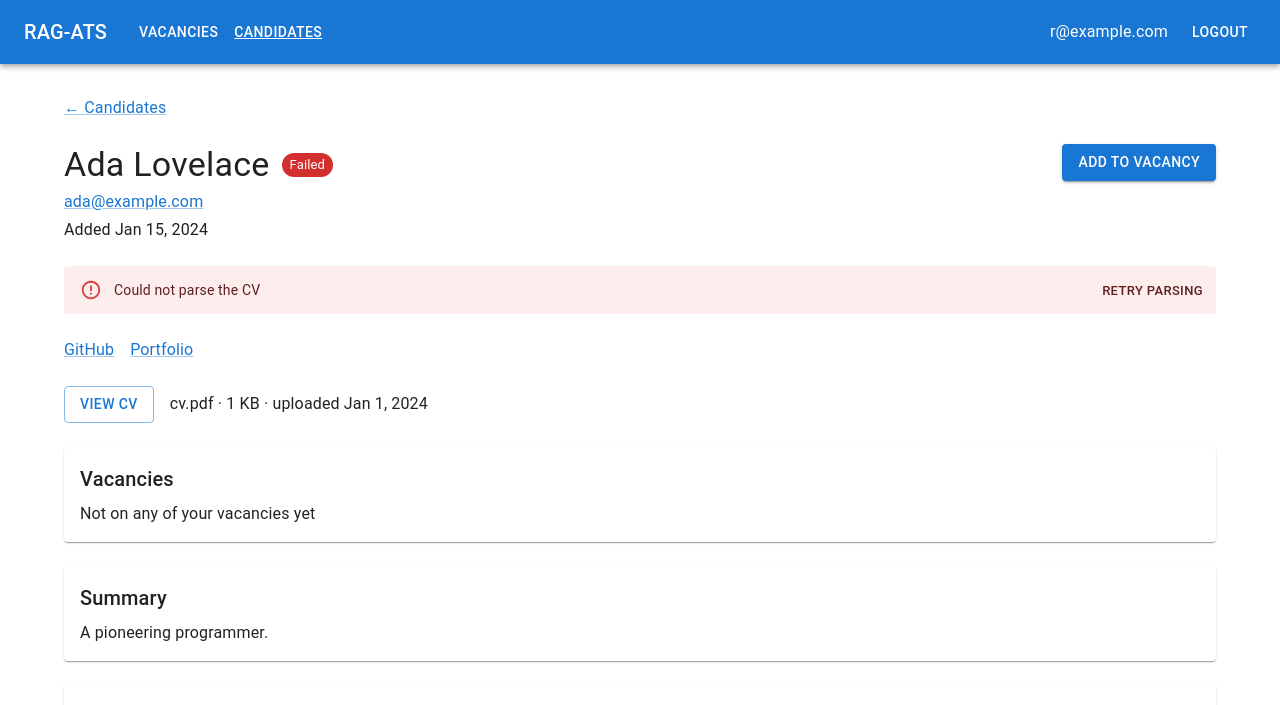
CandidatePage › shows the error when retrying is rejected
The image size is (1280, 705).
Expected: the text "Could not parse the CV" is shown, [114,282,260,298]
Click the button "Retry parsing". click: (1153, 291)
box: [1097,276,1208,307]
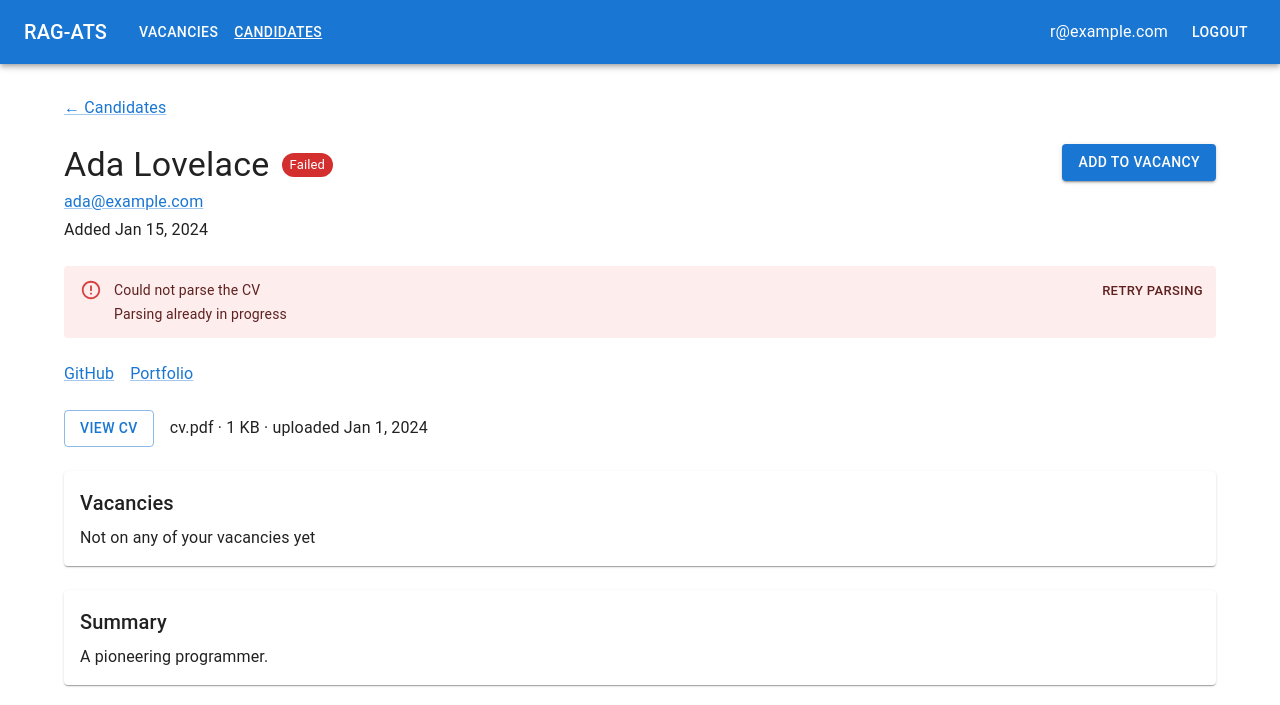
Now the text "Parsing already in progress" is shown, box [114,304,287,324]
